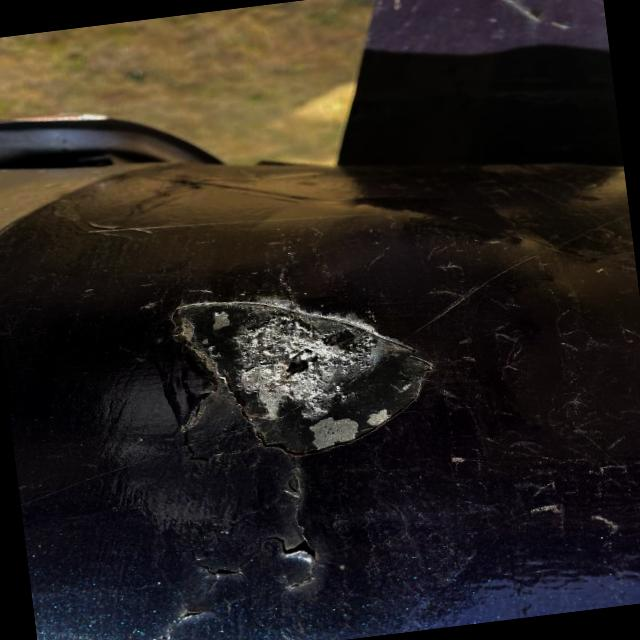crack: (246, 518, 354, 588), (105, 598, 229, 640), (204, 544, 247, 590)
dent: (143, 248, 456, 489)
